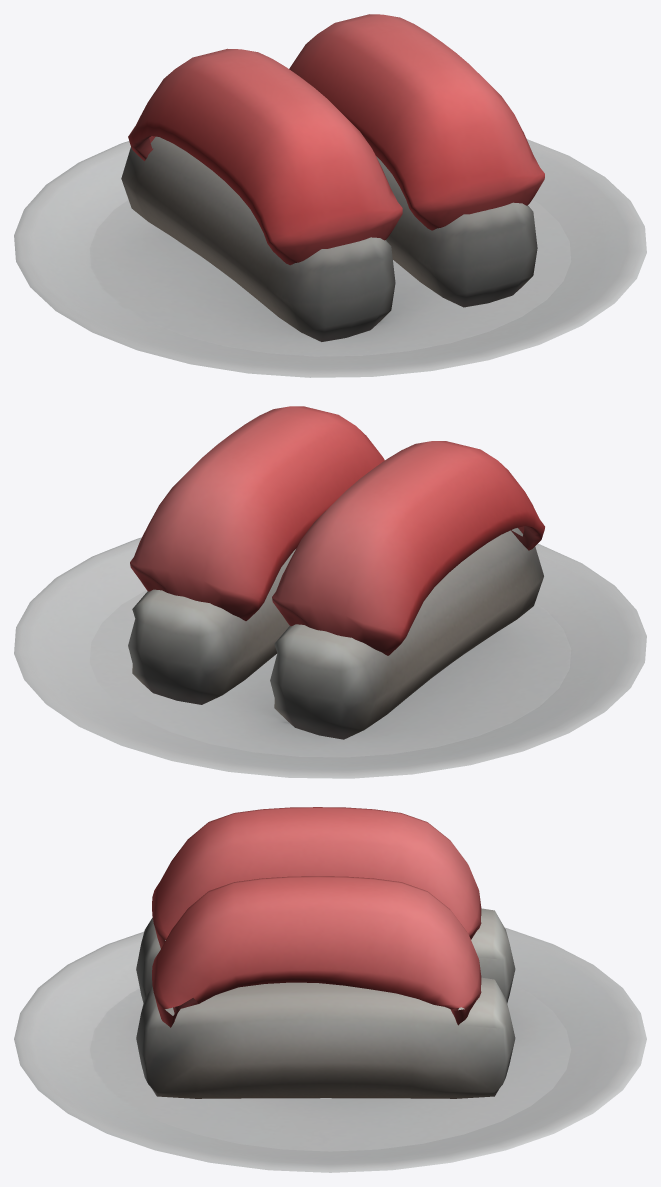
Rendered from sushi.fbx.
The picture shows the model from 3 angles, top to bottom: view 1: azimuth 30°, elevation 25°; view 2: azimuth 150°, elevation 25°; view 3: azimuth 270°, elevation 25°; orthographic projection.
Visible parts, largest first — view 1: polySurface2, polySurface3; view 2: polySurface2, polySurface3; view 3: polySurface2, polySurface3.
Boxes of the visible parts, <box> form: polySurface2: <box>121,14,544,341</box>; polySurface3: <box>14,139,646,377</box>; polySurface2: <box>128,406,544,739</box>; polySurface3: <box>14,537,646,778</box>; polySurface2: <box>136,807,515,1098</box>; polySurface3: <box>14,927,646,1172</box>.
Bounding box in the file's own units: 1.81 × 0.6829 × 1.81.
